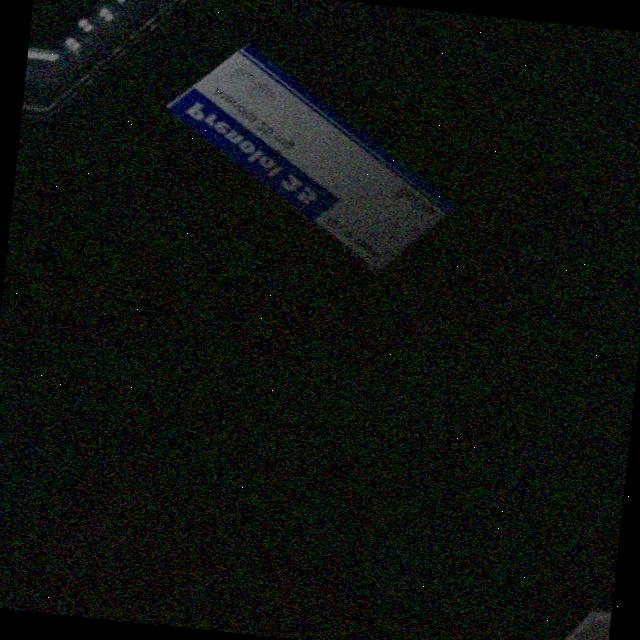prenolol: (163, 25, 457, 288)
